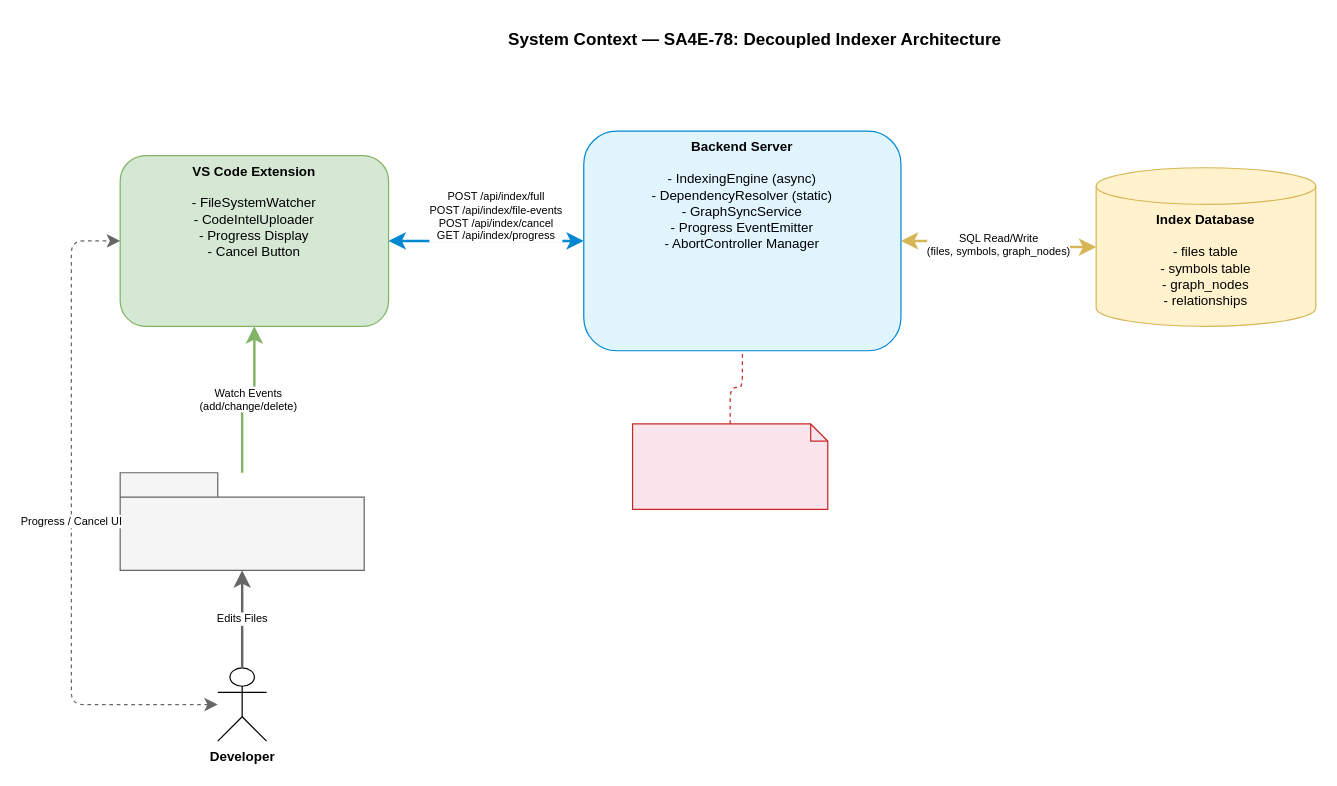
Image size: 1337x786. Some labels were removed from this diagram. The shapes that lost their labels are listed below. From the top down, each one's box as (x1, y1, x2, y2) in pixels, then its label:
(631, 423, 828, 509): Backend does NOT access filesystem directly
(119, 472, 364, 570): Local Filesystem (Developer Workspace)
